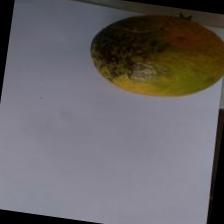Orange Rotten: (74, 0, 224, 118)
